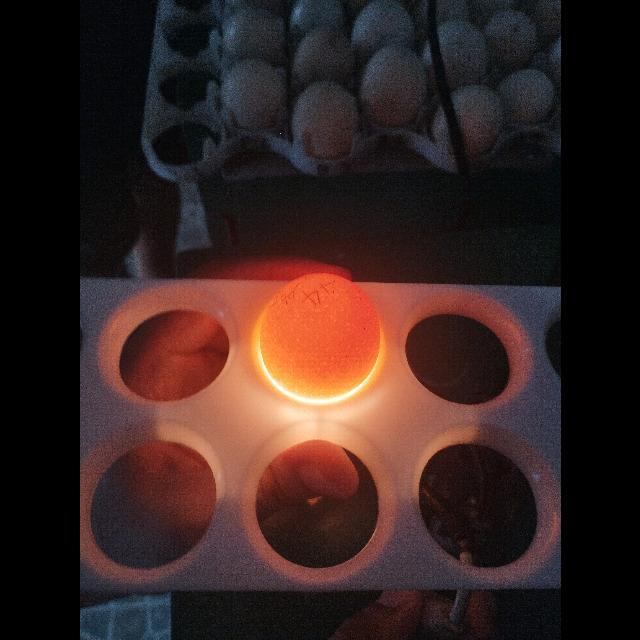Infertile: (256, 268, 384, 406)
